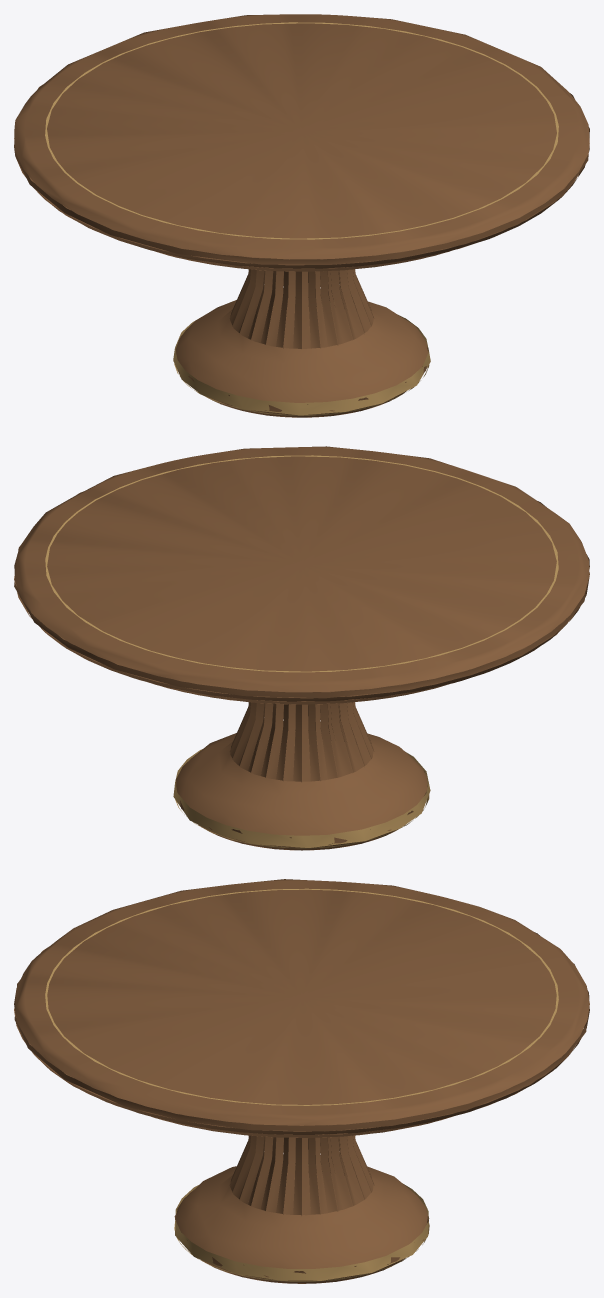
The model's file is TableLOD1.fbx.
The picture shows the model from 3 angles, top to bottom: view 1: azimuth 30°, elevation 25°; view 2: azimuth 150°, elevation 25°; view 3: azimuth 270°, elevation 25°; orthographic projection.
Visible parts, largest first — view 1: Table.009; view 2: Table.009; view 3: Table.009.
Part boxes in pixels (box(x1,y1,x2,y2)): Table.009: box(14, 14, 589, 417); Table.009: box(14, 446, 589, 850); Table.009: box(14, 879, 589, 1283).
Size of the model in its own units: 160 by 72.5 by 160.
